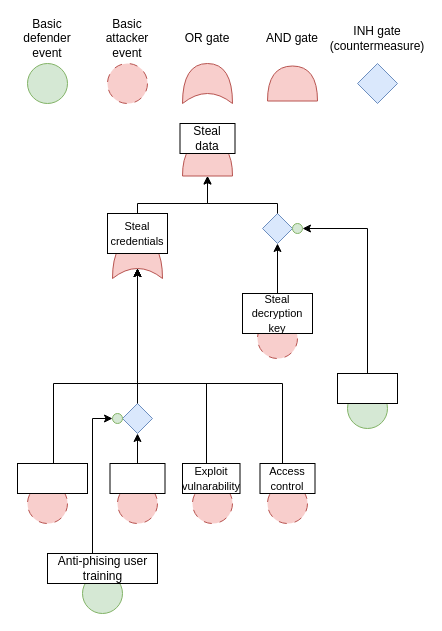
This 442x631 diagram has some shape labels left out. Here are the shapes that lost their labels. From the top down, the centre of each, then its label:
the point at 367,408: Store key offline
the point at 52,478: Blackmailing
the point at 137,478: Phishing
